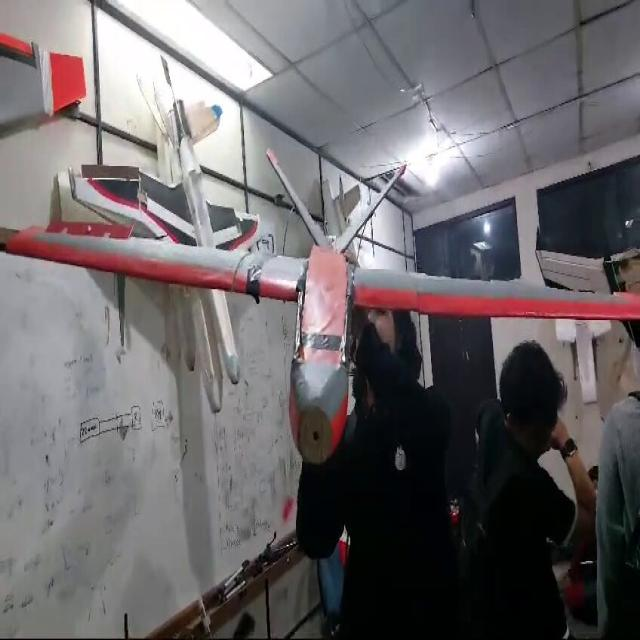plane: (2, 55, 639, 463)
